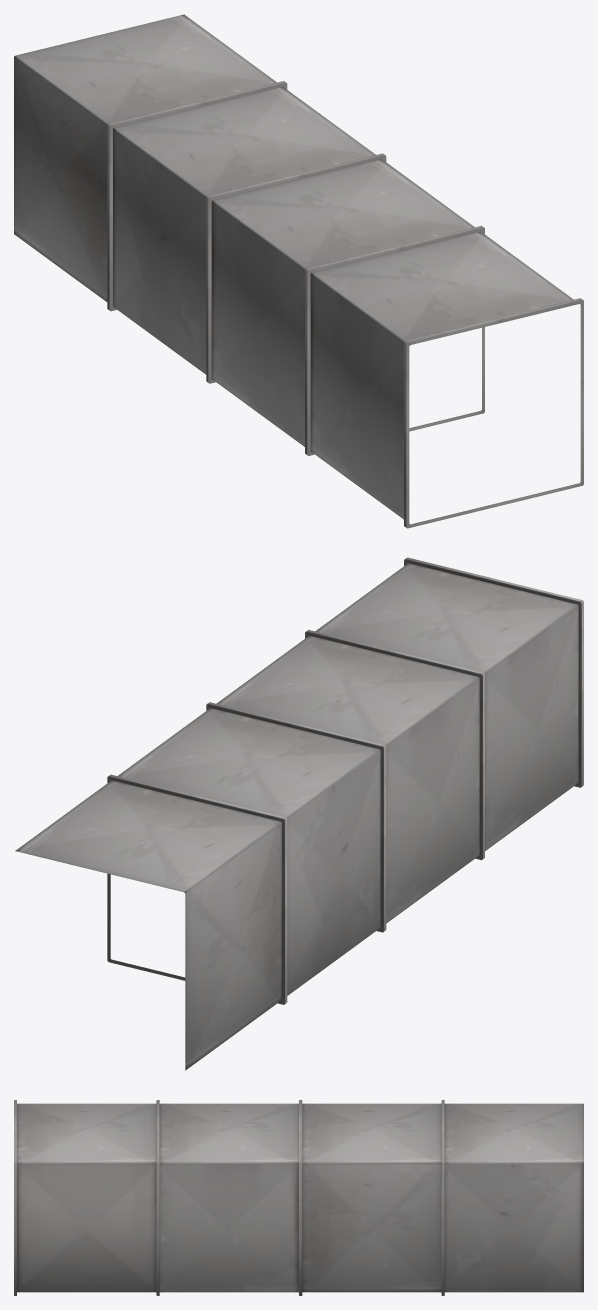
3 views of the same model, one above another, from view 1: azimuth 30°, elevation 25°; view 2: azimuth 150°, elevation 25°; view 3: azimuth 270°, elevation 25° (orthographic). The views are drawn at different scales.
Visible parts, largest first — view 1: body0_model0_lod0_mesh0; view 2: body0_model0_lod0_mesh0; view 3: body0_model0_lod0_mesh0.
Boxes of the visible parts, <box> form: body0_model0_lod0_mesh0: <box>14,14,583,528</box>; body0_model0_lod0_mesh0: <box>15,557,583,1070</box>; body0_model0_lod0_mesh0: <box>14,1100,583,1295</box>.
Size of the model in its own units: 69 by 69 by 256.
Materials: 1 (1 with a texture image).
